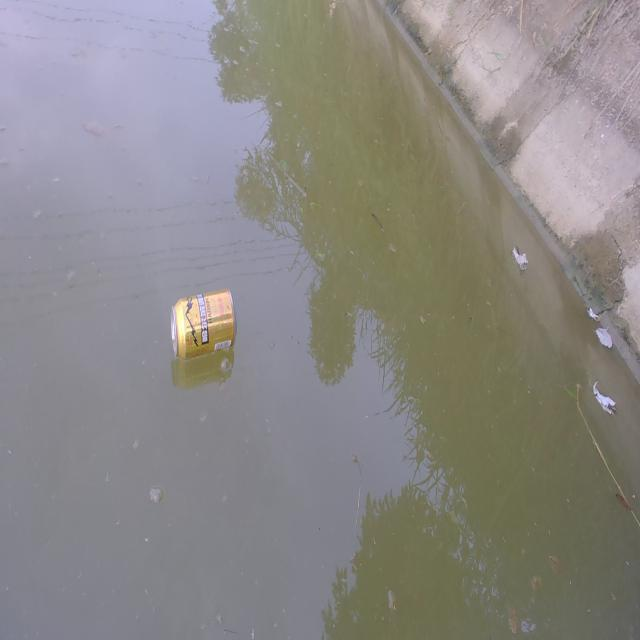garbage: (170, 287, 237, 361)
